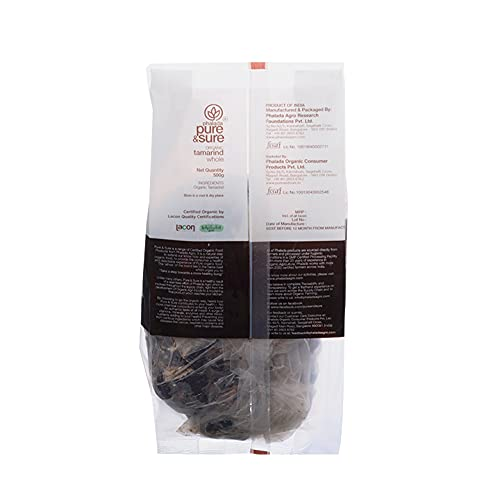Sure: (199, 135, 224, 143)
